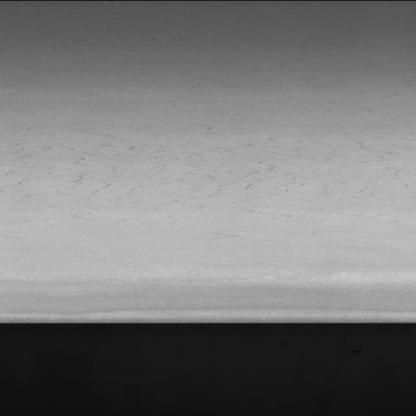silk_spot: (0, 114, 389, 233)
